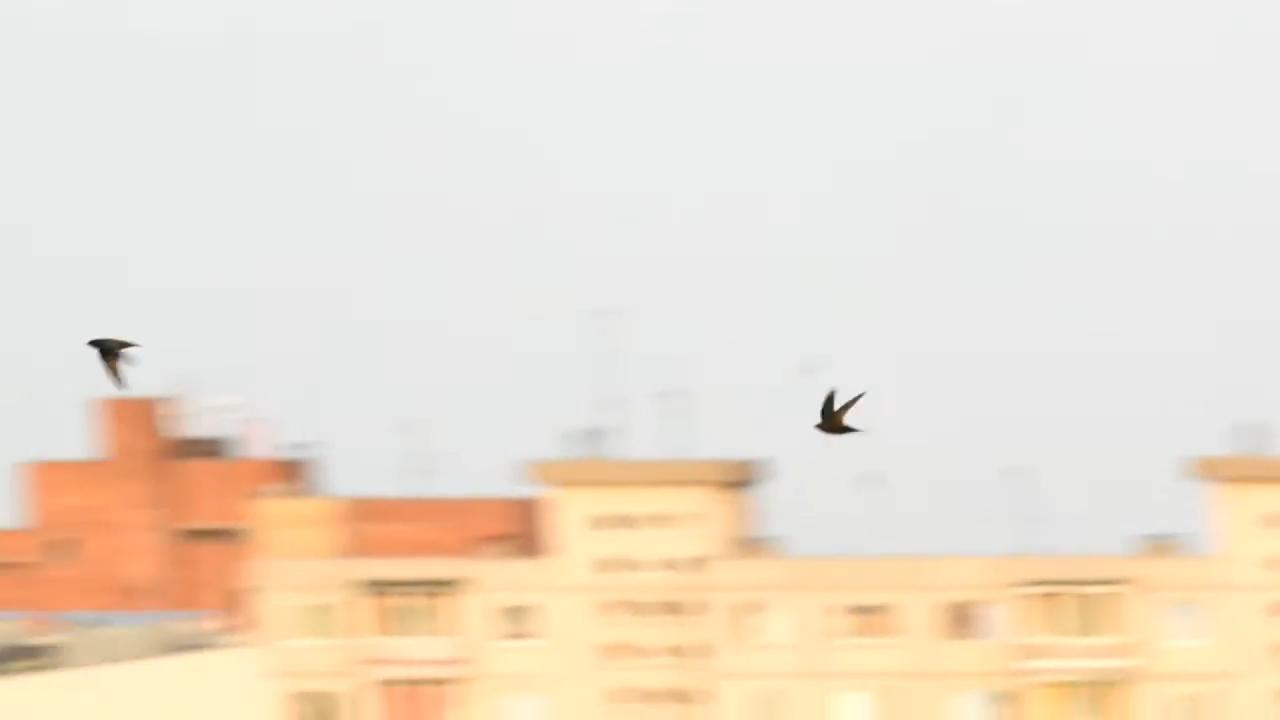Bird: (71, 323, 166, 403), (801, 377, 880, 450)
